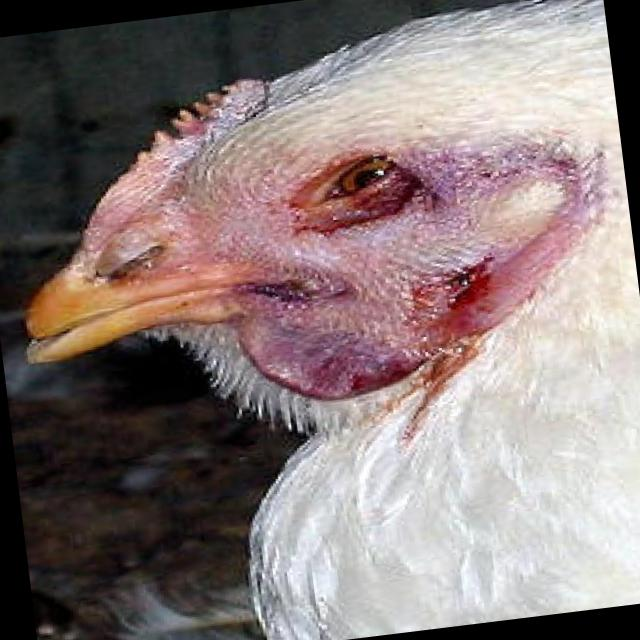Infectios bronchitis: (116, 55, 576, 418)
